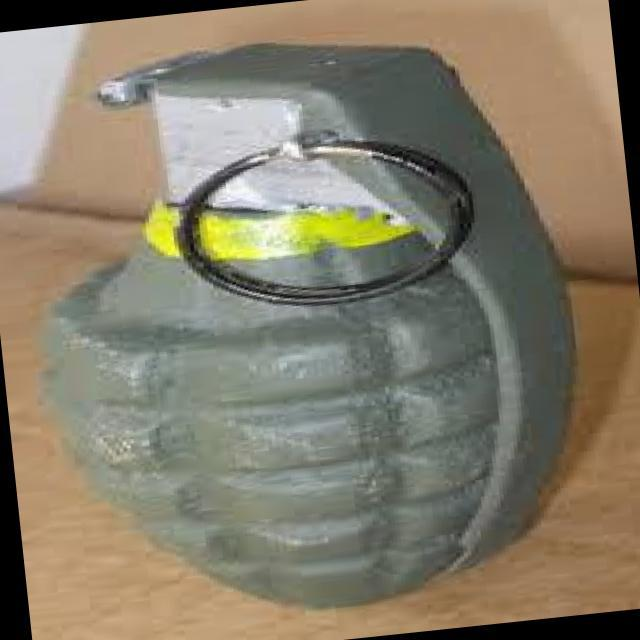grenade: (10, 13, 640, 636)
